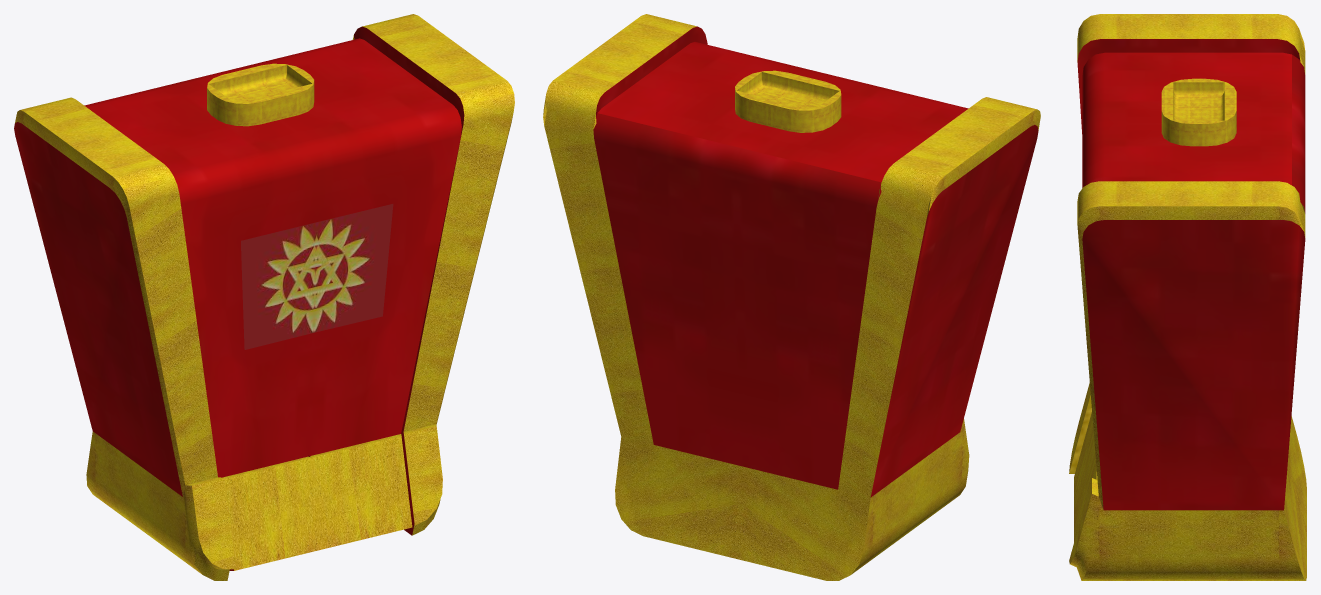
The model's file is shaktiman suit.fbx.
3 renders of one model, left to right at view 1: azimuth 30°, elevation 25°; view 2: azimuth 150°, elevation 25°; view 3: azimuth 270°, elevation 25°, orthographic.
Parts seen in each view (by area): view 1: Cube; view 2: Cube; view 3: Cube.
Part boxes in pixels (<box>): Cube: <box>14,14,514,580</box>; Cube: <box>543,14,1040,580</box>; Cube: <box>1069,14,1306,580</box>.
Bounding box in the file's own units: 202 × 211 × 105.
